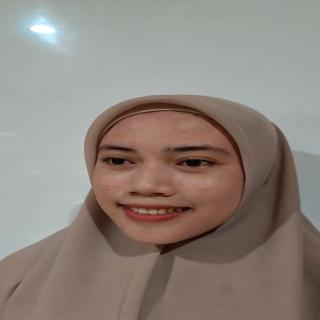Senang: (91, 106, 260, 248)
